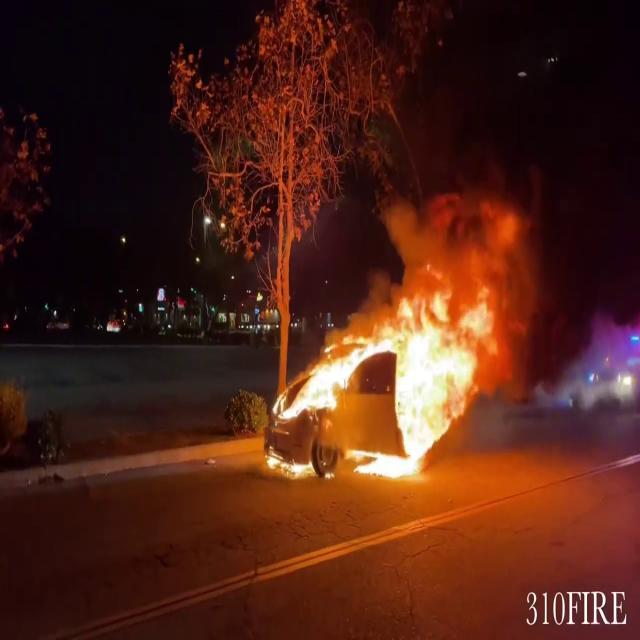Fire: (264, 266, 502, 487)
Smoke: (360, 17, 572, 302)
